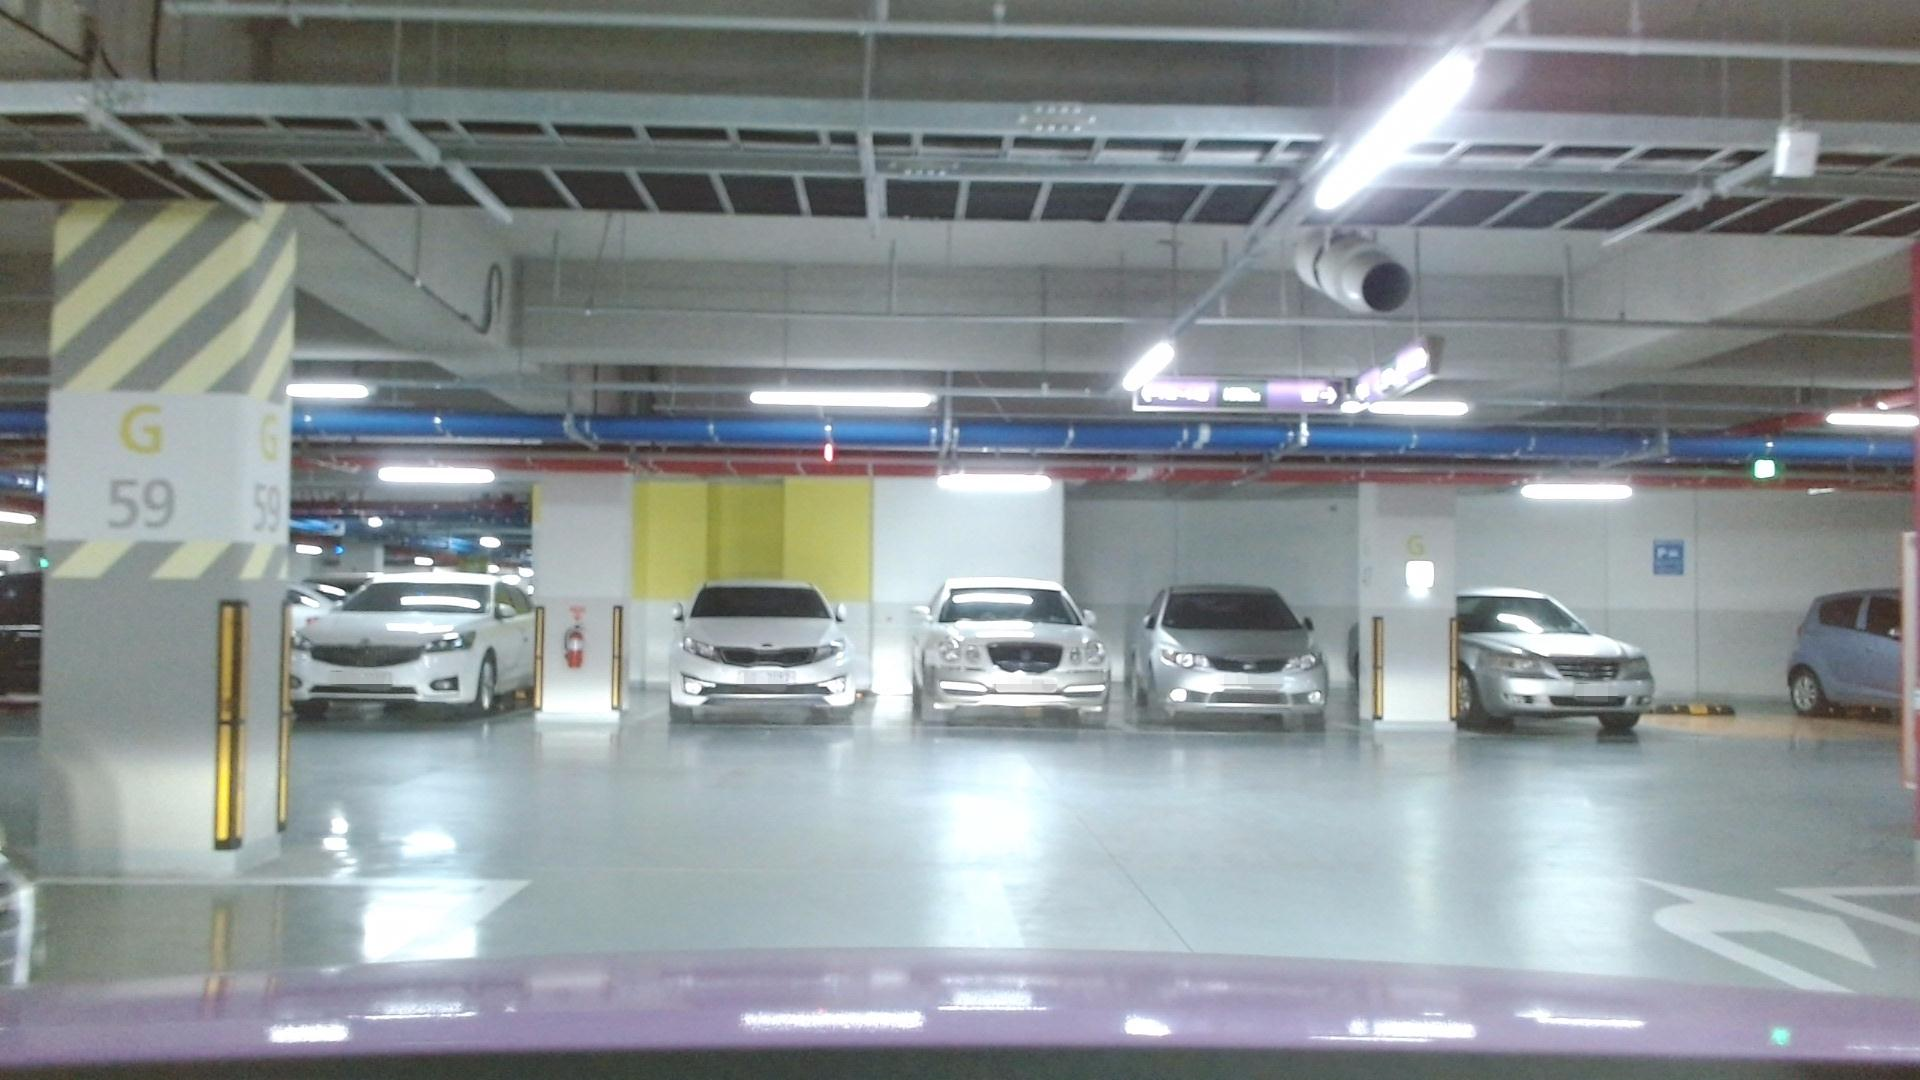empty: (1630, 695, 1910, 740)
occupied: (260, 550, 550, 715), (905, 570, 1110, 735), (1125, 600, 1370, 735), (1455, 600, 1650, 755), (665, 590, 860, 740)
